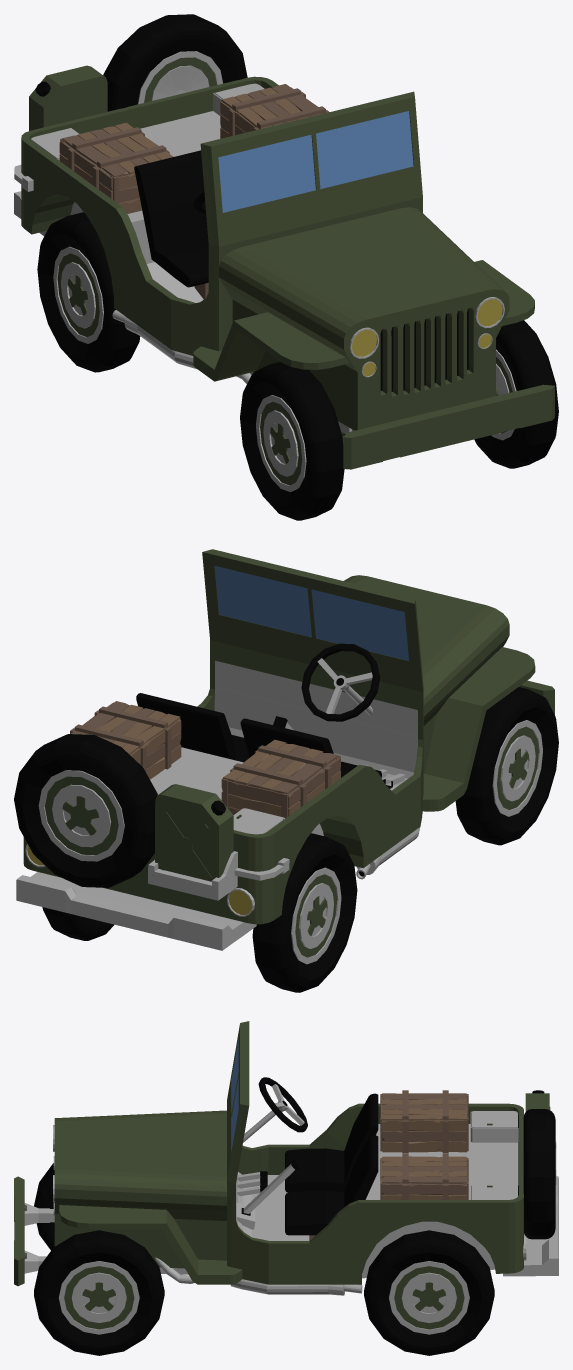
The model's file is jeep.glb.
The picture shows the model from 3 angles, top to bottom: view 1: azimuth 30°, elevation 25°; view 2: azimuth 150°, elevation 25°; view 3: azimuth 270°, elevation 25°; orthographic projection. The views are drawn at different scales.
Parts seen in each view (by area): view 1: M38A1 1953; view 2: M38A1 1953; view 3: M38A1 1953.
Boxes of the visible parts, box(x1,y1,x2,y2) form: M38A1 1953: box(14, 14, 558, 520); M38A1 1953: box(14, 549, 558, 992); M38A1 1953: box(14, 1021, 558, 1355).
Size of the model in its own units: 1.42 by 1.6 by 3.21.
